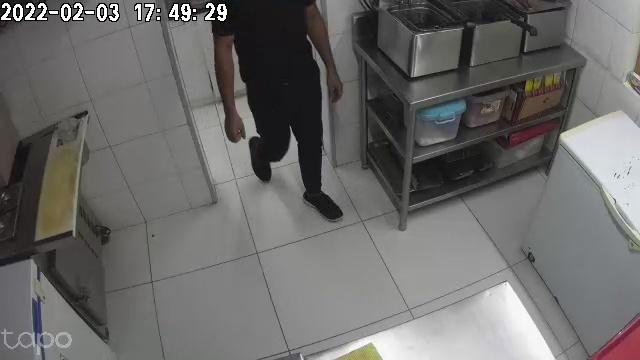no_gloves: (222, 99, 247, 142), (323, 59, 343, 102)
